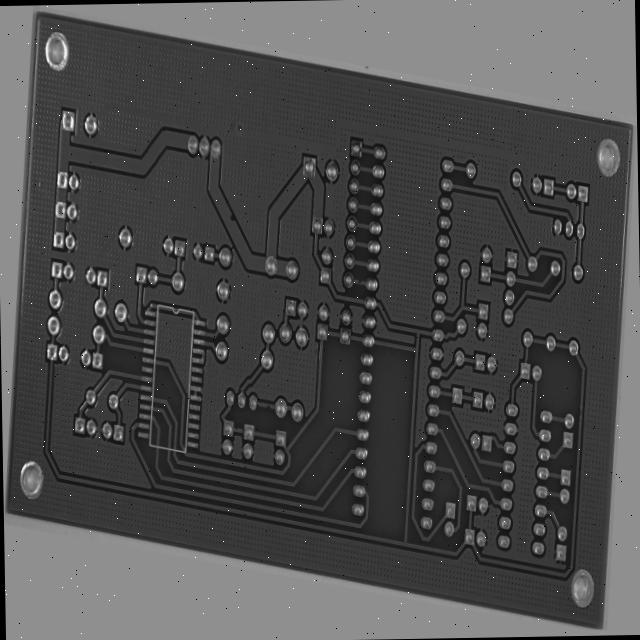mouse_bite: (212, 202, 225, 227), (354, 256, 362, 273), (268, 430, 277, 445)
